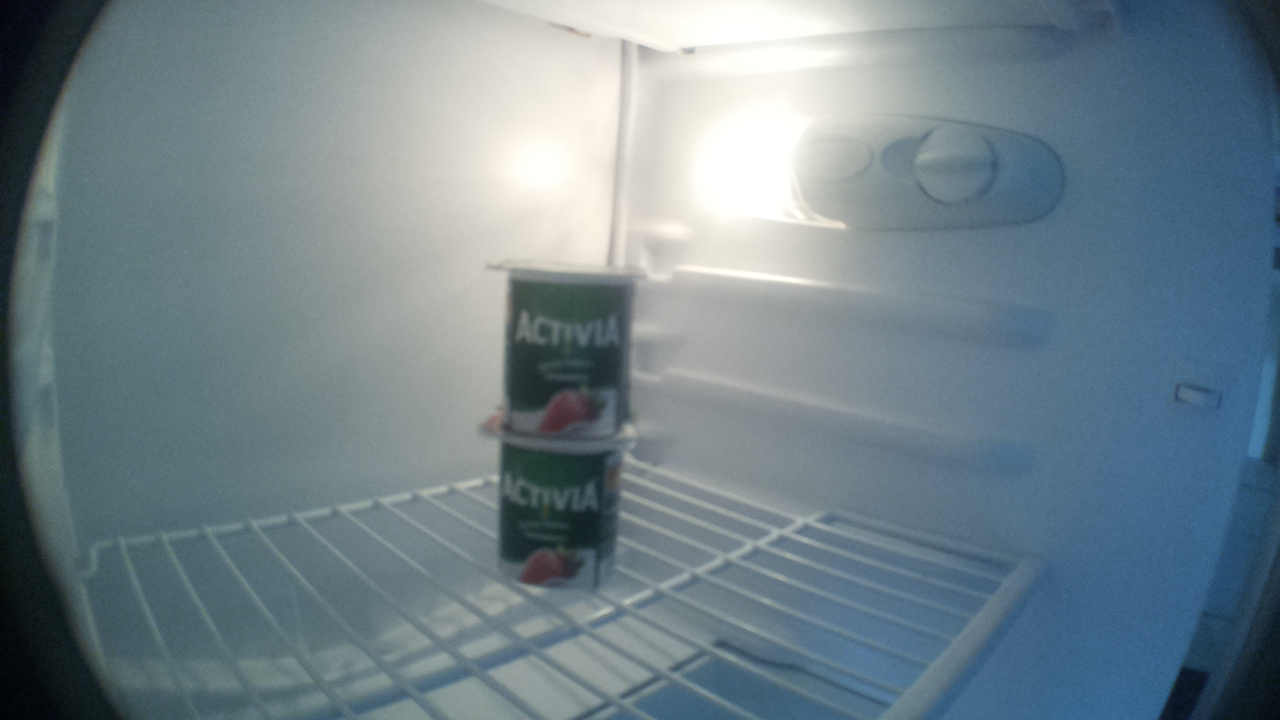yoghurt: (483, 254, 653, 439), (472, 430, 650, 593)
